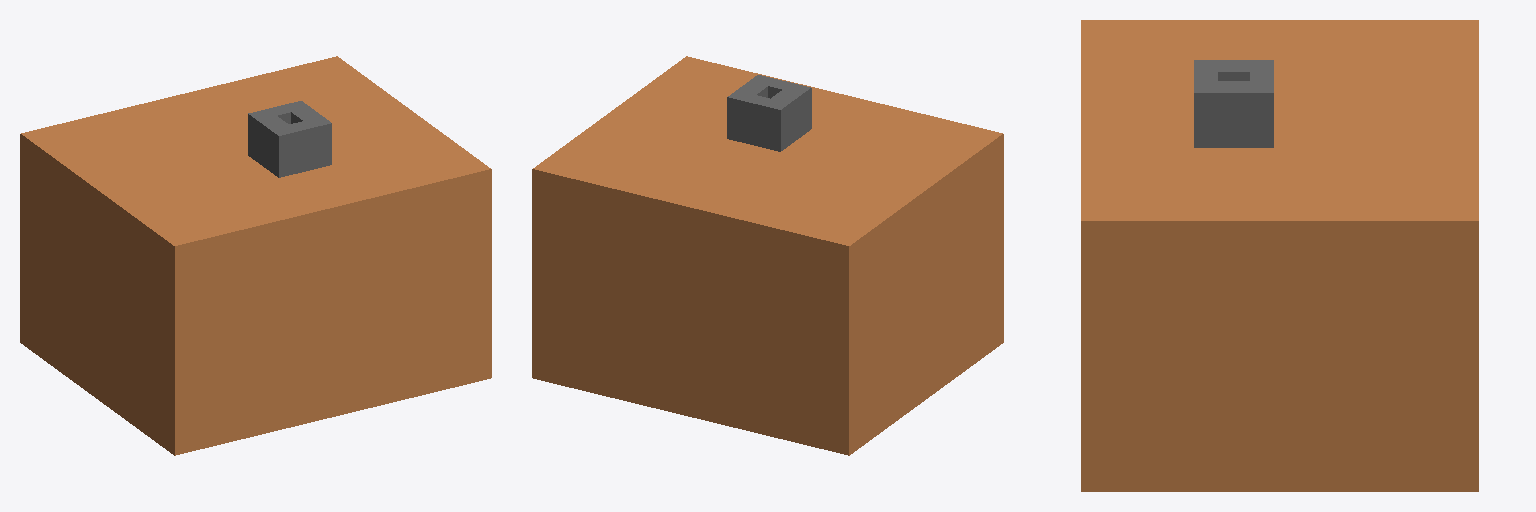
The robot description file, URDF, robot "peg_in_hole_tolerances_scenes_scene_0026_tol03":
<?xml version="1.0"?>
<robot name="peg_in_hole_tolerances_scenes_scene_0026_tol03">
  <material name="wood"><color rgba="0.82 0.56 0.35 1.0"/></material>
  <material name="hole_grey"><color rgba="0.4706 0.4706 0.4706 1.0"/></material>
  <link name="box">
    <visual>
      <origin xyz="0.000000 0.000000 0.000000" rpy="0 0 0"/>
      <geometry><box size="0.475000 0.400000 0.300000"/></geometry>
      <material name="wood"/>
    </visual>
    <collision>
      <origin xyz="0.000000 0.000000 0.000000" rpy="0 0 0"/>
      <geometry><box size="0.475000 0.400000 0.300000"/></geometry>
    </collision>
    <visual>
      <origin xyz="0.024531 -0.046132 0.155000" rpy="0 0 0"/>
      <geometry><box size="0.080000 0.080000 0.010000"/></geometry>
      <material name="hole_grey"/>
    </visual>
    <collision>
      <origin xyz="0.024531 -0.046132 0.155000" rpy="0 0 0"/>
      <geometry><box size="0.080000 0.080000 0.010000"/></geometry>
    </collision>
    <visual>
      <origin xyz="0.049933 -0.046132 0.185000" rpy="0 0 0"/>
      <geometry><box size="0.029196 0.080000 0.050000"/></geometry>
      <material name="hole_grey"/>
    </visual>
    <collision>
      <origin xyz="0.049933 -0.046132 0.185000" rpy="0 0 0"/>
      <geometry><box size="0.029196 0.080000 0.050000"/></geometry>
    </collision>
    <visual>
      <origin xyz="-0.000871 -0.046132 0.185000" rpy="0 0 0"/>
      <geometry><box size="0.029196 0.080000 0.050000"/></geometry>
      <material name="hole_grey"/>
    </visual>
    <collision>
      <origin xyz="-0.000871 -0.046132 0.185000" rpy="0 0 0"/>
      <geometry><box size="0.029196 0.080000 0.050000"/></geometry>
    </collision>
    <visual>
      <origin xyz="0.024531 -0.018230 0.185000" rpy="0 0 0"/>
      <geometry><box size="0.021608 0.024196 0.050000"/></geometry>
      <material name="hole_grey"/>
    </visual>
    <collision>
      <origin xyz="0.024531 -0.018230 0.185000" rpy="0 0 0"/>
      <geometry><box size="0.021608 0.024196 0.050000"/></geometry>
    </collision>
    <visual>
      <origin xyz="0.024531 -0.074035 0.185000" rpy="0 0 0"/>
      <geometry><box size="0.021608 0.024196 0.050000"/></geometry>
      <material name="hole_grey"/>
    </visual>
    <collision>
      <origin xyz="0.024531 -0.074035 0.185000" rpy="0 0 0"/>
      <geometry><box size="0.021608 0.024196 0.050000"/></geometry>
    </collision>
    <inertial>
      <mass value="500"/>
      <friction value="1.0"/>
      <inertia ixx="1000.0" ixy="0.0" ixz="0.0" iyy="1000.0" iyz="0.0" izz="1000.0"/>
    </inertial>
  </link>
</robot>

--- Render facts (derived) ---
Views: 3 orthographic renders of the robot side by side, from view 1: azimuth 30°, elevation 25°; view 2: azimuth 150°, elevation 25°; view 3: azimuth 270°, elevation 25°.
Robot: peg_in_hole_tolerances_scenes_scene_0026_tol03 — 1 links, 0 joints (none); root link box; default pose: every joint at zero.
Links seen in each view (by area): view 1: box; view 2: box; view 3: box.
Link boxes in pixels (x1,y1,x2,y2): box: (20,56,491,455); box: (532,56,1003,455); box: (1081,20,1478,491).
Size in the robot's own frame: 0.475 by 0.4 by 0.36 metres.
Geometry: primitives only (box / cylinder / sphere), no mesh files.
